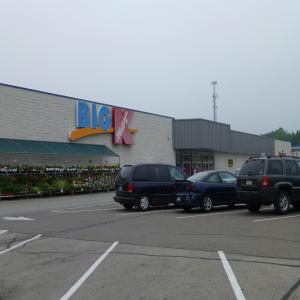Vehicle-registration-plate: (247, 179, 253, 188), (178, 197, 181, 202)
